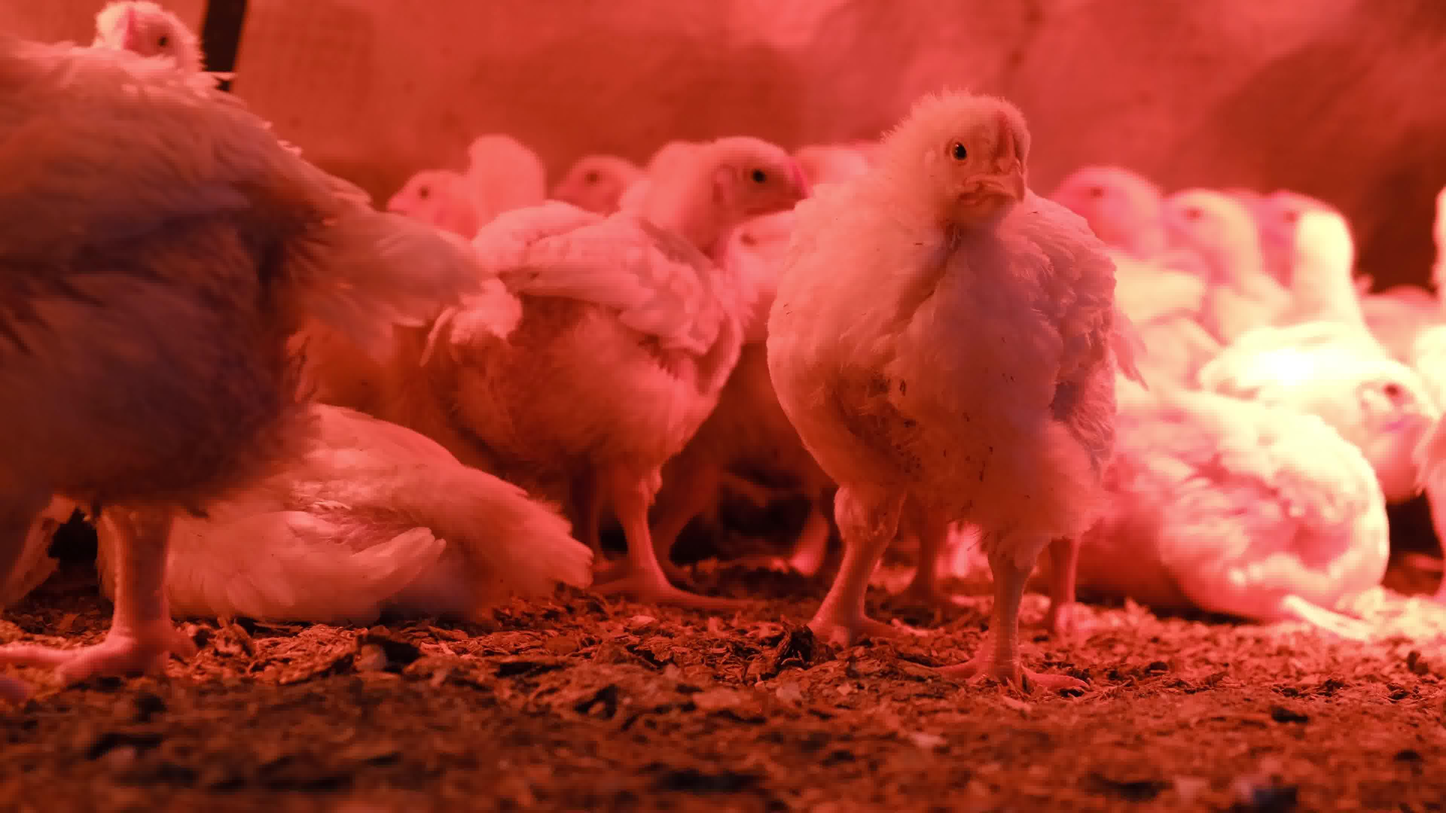AbNormal: (91, 396, 601, 623), (1048, 358, 1439, 626)
Normal: (0, 36, 495, 679), (774, 87, 1128, 687), (444, 131, 807, 614), (1055, 155, 1171, 384), (1262, 215, 1379, 380), (87, 0, 222, 109), (1168, 189, 1254, 359), (381, 168, 477, 249), (471, 126, 546, 228), (558, 149, 649, 225), (1260, 181, 1347, 217)
